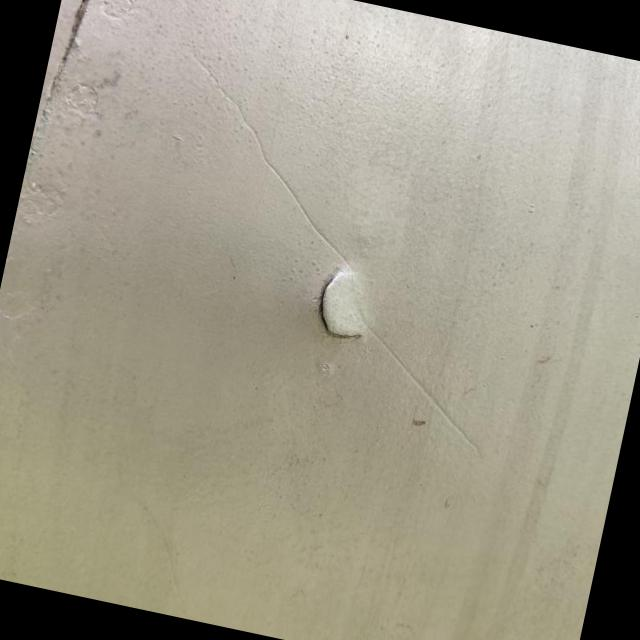Crack: (314, 270, 360, 338)
